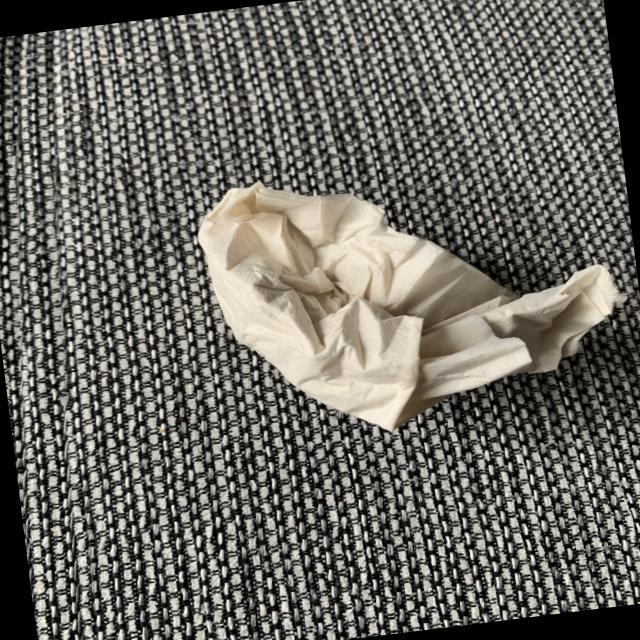organic waste: (191, 136, 640, 453)
